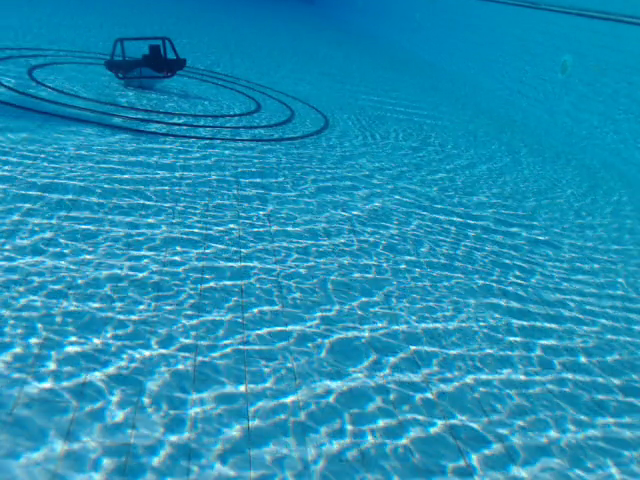submarine: (103, 36, 186, 89)
